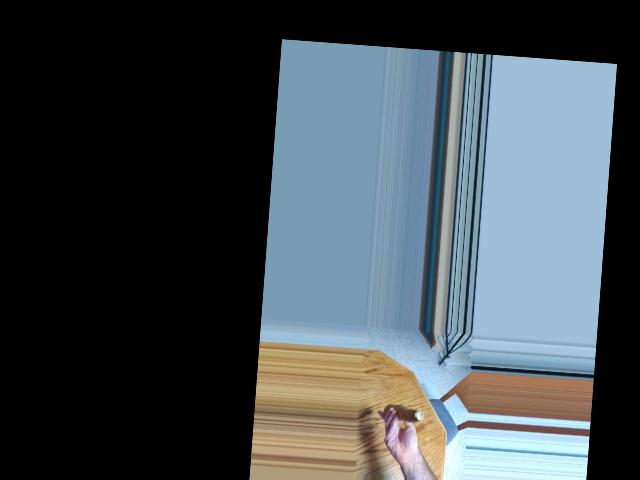sweet_potato: (385, 403, 418, 424)
